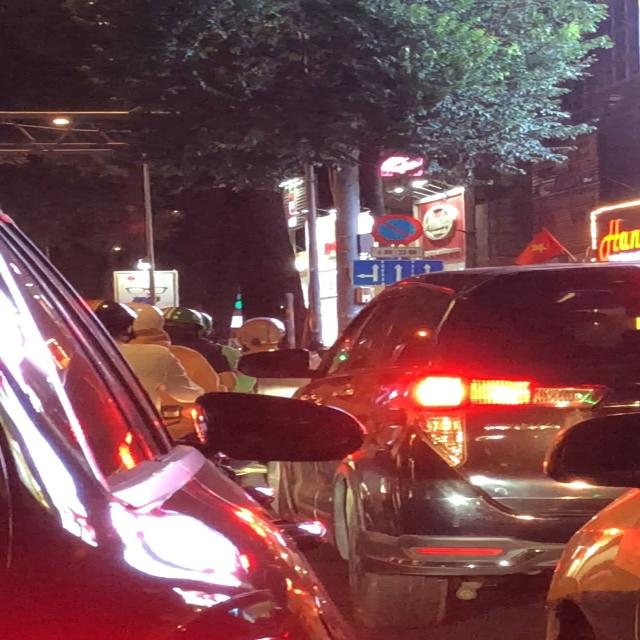Bien bao cam do xe: (368, 213, 427, 246)
